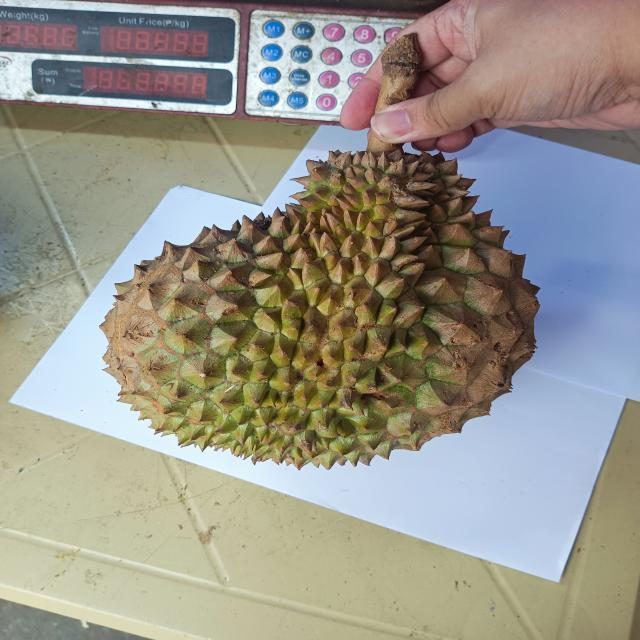mature: (101, 151, 538, 469)
